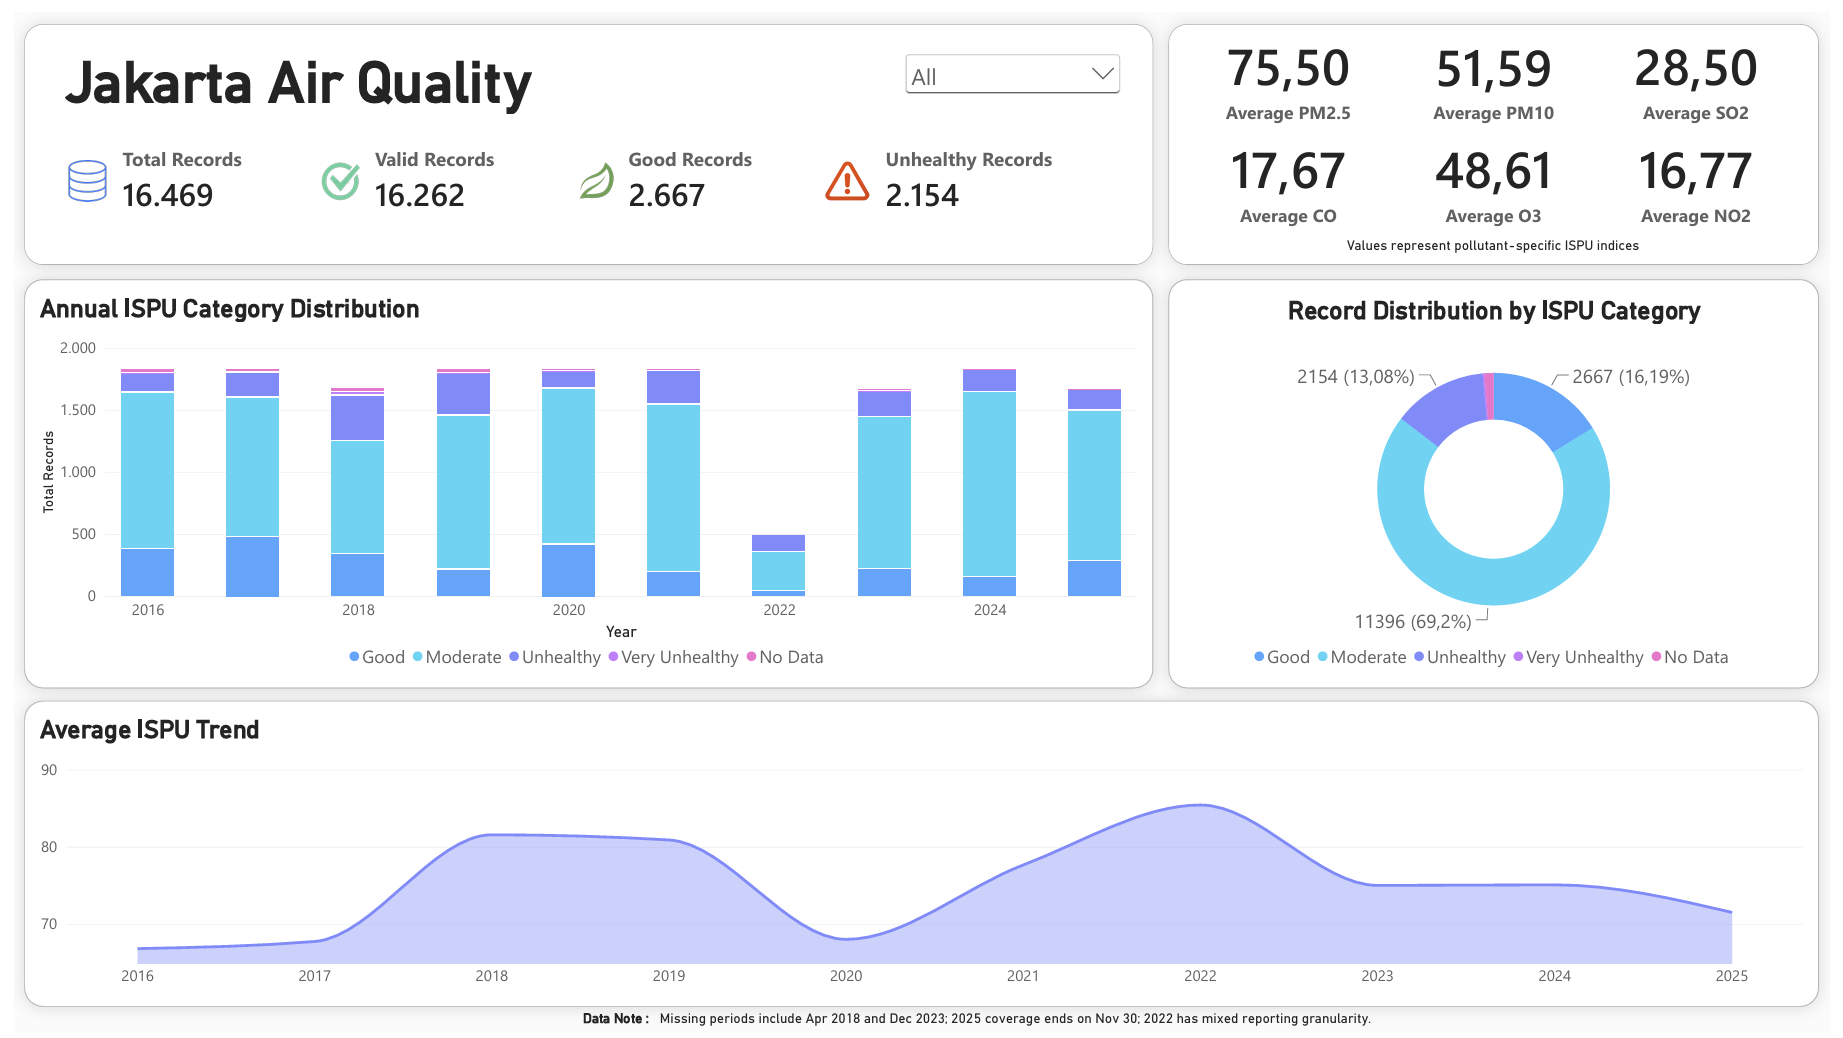

The dashboard page shown, as its layout file describes it:
{"tool":"powerbi","page":{"name":"Overview","canvas":[1920,1080],"ordinal":0},"visuals":[{"type":"shape","box":[1219.7,11.7,688.6,255.3],"z":0},{"type":"shape","box":[10.2,11.7,1193.4,255.3],"z":1000},{"type":"cardVisual","fields":{"Data":["air_quality.Average PM2.5"]},"box":[1264,15,165.8,108.3],"z":2000},{"type":"slicer","fields":{"Values":["date.year"]},"box":[936.7,39.4,237.8,78.8],"z":3000},{"type":"columnChart","title":"Annual ISPU Category Distribution","fields":{"Category":["date.year"],"Series":["air_quality.category_revised"],"Y":["air_quality.Total Records"]},"box":[10.2,281.6,1193.4,433.3],"z":4000},{"type":"donutChart","title":"Record Distribution by ISPU Category","fields":{"Category":["air_quality.category_revised"],"Y":["CountNonNull(air_quality.category_revised)"]},"box":[1219.7,281.6,688.6,433.3],"z":5000},{"type":"lineChart","title":"Average ISPU Trend","fields":{"Category":["Trend Axis.Axis Label"],"Y":["air_quality.Dynamic Average ISPU"]},"box":[10.2,728,1898.1,323.9],"z":6000},{"type":"textbox","title":"Jakarta Air Quality","box":[54,39.4,644.9,86.1],"z":7000},{"type":"cardVisual","fields":{"Data":["air_quality.Valid Records"]},"box":[365,111.6,172.5,130.3],"z":8000},{"type":"cardVisual","fields":{"Data":["air_quality.Total Records"]},"box":[98.1,111.6,172.5,130.3],"z":9000},{"type":"cardVisual","fields":{"Data":["air_quality.Good Records"]},"box":[633,111.6,172.5,130.3],"z":10000},{"type":"cardVisual","fields":{"Data":["air_quality.Unhealthy Records"]},"box":[905,111.6,214.8,130.3],"z":11000},{"type":"image","box":[47.4,155.6,59.2,44],"z":12000},{"type":"image","box":[592,155.6,47.4,44],"z":13000},{"type":"image","box":[319,155.6,50.7,44],"z":14000},{"type":"image","box":[857,155.6,47.4,44],"z":15000},{"type":"cardVisual","fields":{"Data":["air_quality.Average PM10"]},"box":[1480.9,14.6,165.8,110],"z":16000},{"type":"cardVisual","fields":{"Data":["air_quality.Average CO"]},"box":[1264,127,165.8,101.5],"z":17000},{"type":"cardVisual","fields":{"Data":["air_quality.Average O3"]},"box":[1480.9,126.9,165.8,101.5],"z":18000},{"type":"cardVisual","fields":{"Data":["air_quality.Average SO2"]},"box":[1695,15,165.8,108.3],"z":19000},{"type":"cardVisual","fields":{"Data":["air_quality.Average NO2"]},"box":[1695,127,165.8,101.5],"z":20000},{"type":"textbox","title":"Values represent pollutant-specific ISPU indices","box":[1337.9,237.8,450.8,21.9],"z":22000},{"type":"textbox","title":"Missing periods include Apr 2018 and Dec 2023; 2025 coverage ends on Nov 30; 2022 has mixed reporting granularity.","box":[677,1056.3,757.2,23.3],"z":23000},{"type":"textbox","title":"Data Note :","box":[601,1056.3,75.9,23.3],"z":24000}]}

Visuals, with their boxes in screenshot pixels (x1, y1, x2, y2), scaled from the page's 1920x1080 canvas onto the 1843x1038 screenshot:
shape: rect(1171, 11, 1832, 257)
shape: rect(10, 11, 1155, 257)
cardVisual - air_quality.Average PM2.5: rect(1213, 14, 1372, 119)
slicer - date.year: rect(899, 38, 1127, 114)
"Annual ISPU Category Distribution" columnChart: rect(10, 271, 1155, 687)
"Record Distribution by ISPU Category" donutChart: rect(1171, 271, 1832, 687)
"Average ISPU Trend" lineChart: rect(10, 700, 1832, 1011)
"Jakarta Air Quality" textbox: rect(52, 38, 671, 121)
cardVisual - air_quality.Valid Records: rect(350, 107, 516, 232)
cardVisual - air_quality.Total Records: rect(94, 107, 260, 232)
cardVisual - air_quality.Good Records: rect(608, 107, 773, 232)
cardVisual - air_quality.Unhealthy Records: rect(869, 107, 1075, 232)
image: rect(45, 150, 102, 192)
image: rect(568, 150, 614, 192)
image: rect(306, 150, 355, 192)
image: rect(823, 150, 868, 192)
cardVisual - air_quality.Average PM10: rect(1422, 14, 1581, 120)
cardVisual - air_quality.Average CO: rect(1213, 122, 1372, 220)
cardVisual - air_quality.Average O3: rect(1422, 122, 1581, 220)
cardVisual - air_quality.Average SO2: rect(1627, 14, 1786, 119)
cardVisual - air_quality.Average NO2: rect(1627, 122, 1786, 220)
"Values represent pollutant-specific ISPU indices" textbox: rect(1284, 229, 1717, 250)
"Missing periods include Apr 2018 and Dec 2023; 2025 coverage ends on Nov 30; 2022 has mixed reporting granularity." textbox: rect(650, 1015, 1377, 1037)
"Data Note :" textbox: rect(577, 1015, 650, 1037)
